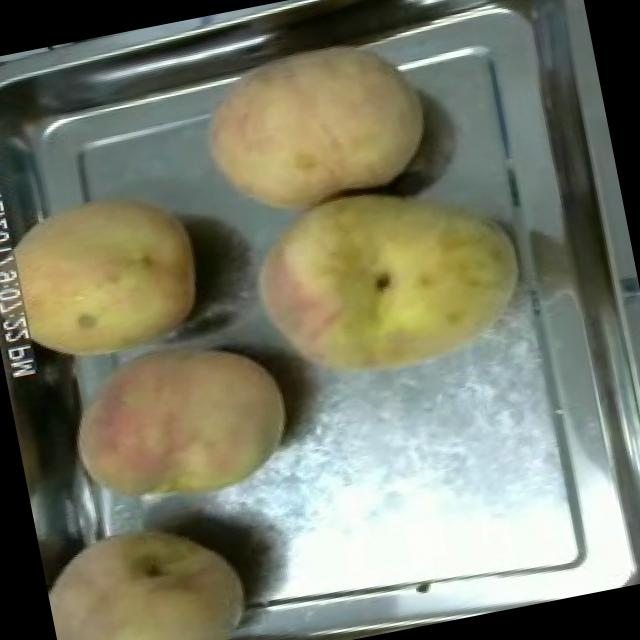Fruit: (230, 156, 544, 410), (176, 13, 447, 239), (49, 312, 310, 531), (0, 171, 218, 385), (35, 493, 269, 640)
